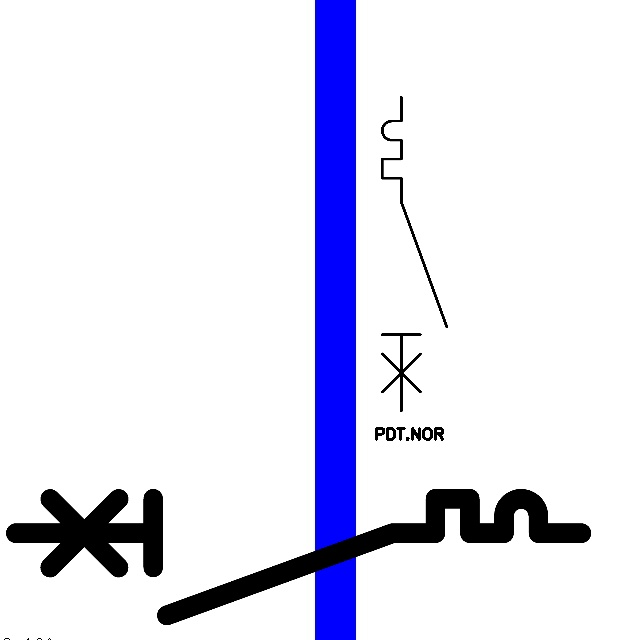interruptor_termomagnetico: (1, 484, 596, 629), (374, 89, 455, 419)
